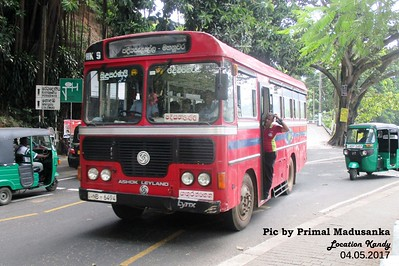bus: (79, 30, 309, 231)
threewheel: (1, 127, 61, 206), (343, 122, 399, 181)
